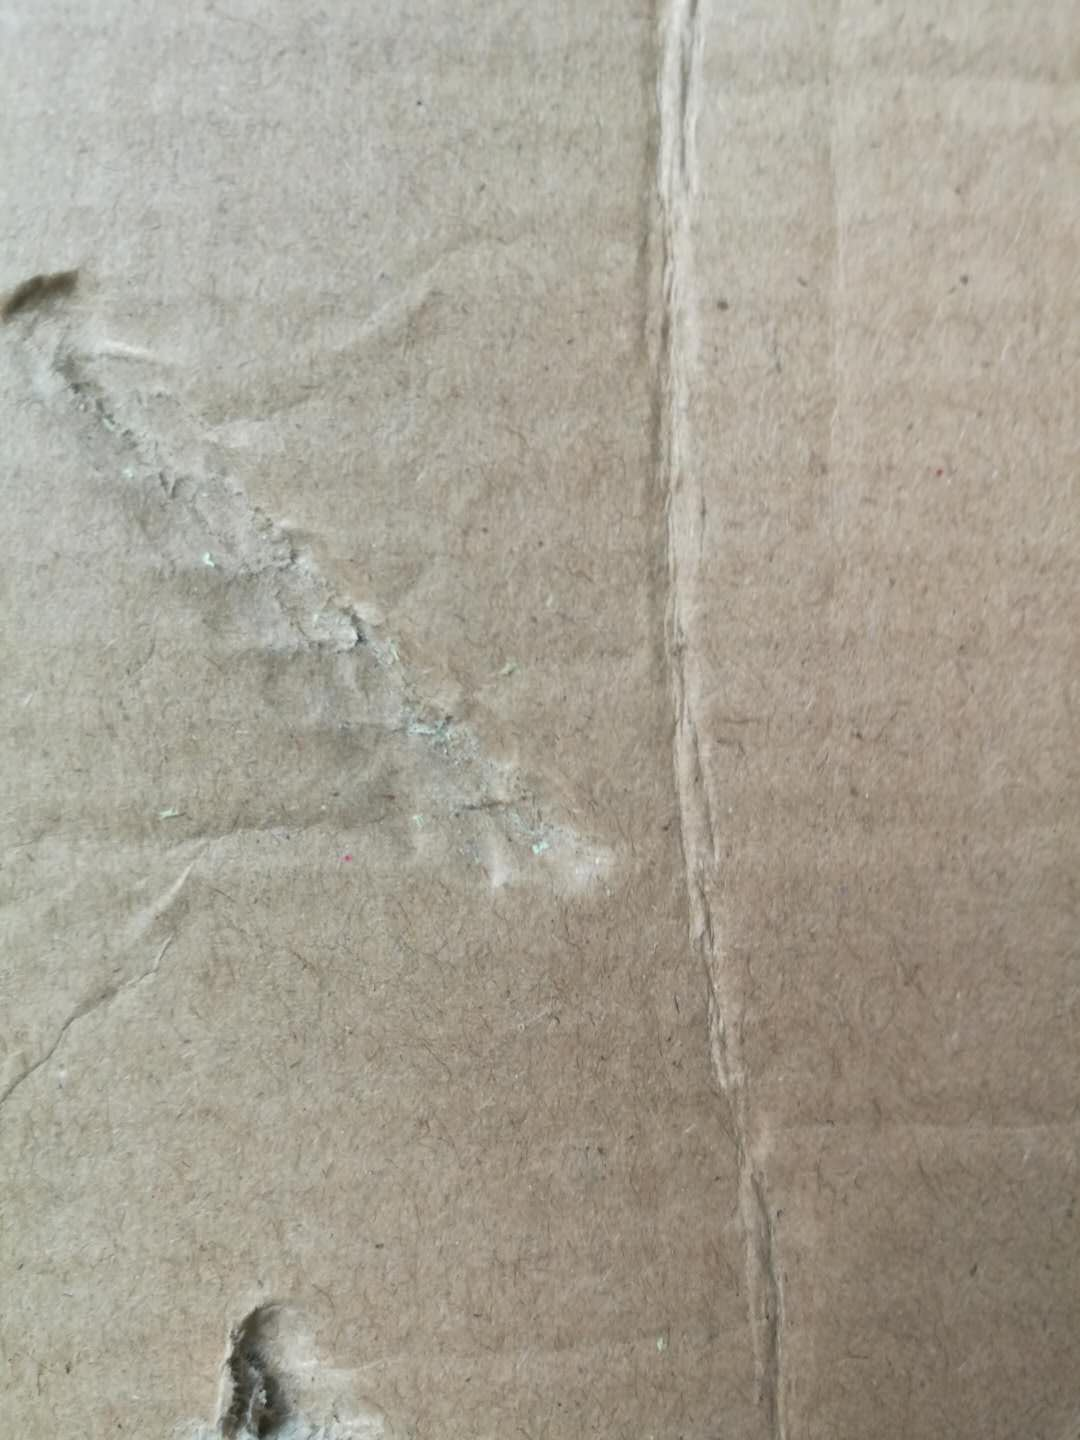defect: (1, 212, 653, 1119), (568, 1, 908, 1440), (164, 1270, 415, 1440)
